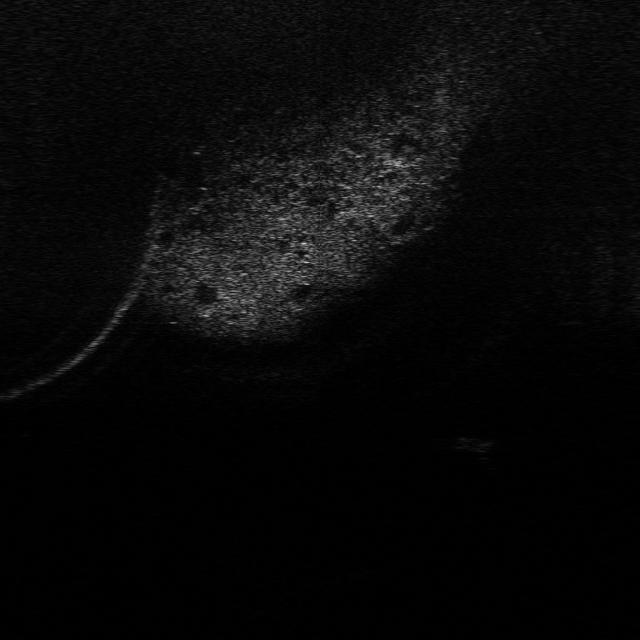cube: (452, 430, 502, 457)
